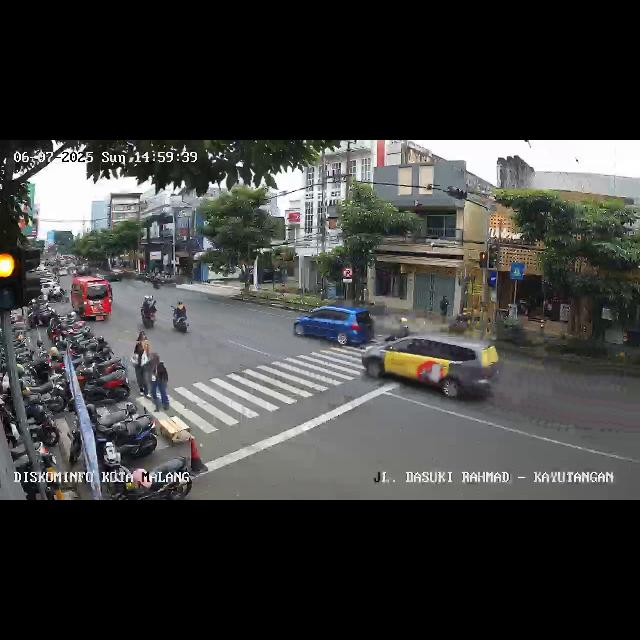car: (362, 333, 500, 403), (295, 302, 377, 352), (71, 276, 113, 322)
motorcycle: (170, 298, 190, 336), (138, 294, 158, 328)
person: (149, 353, 171, 415), (132, 341, 152, 399), (136, 331, 150, 359)
